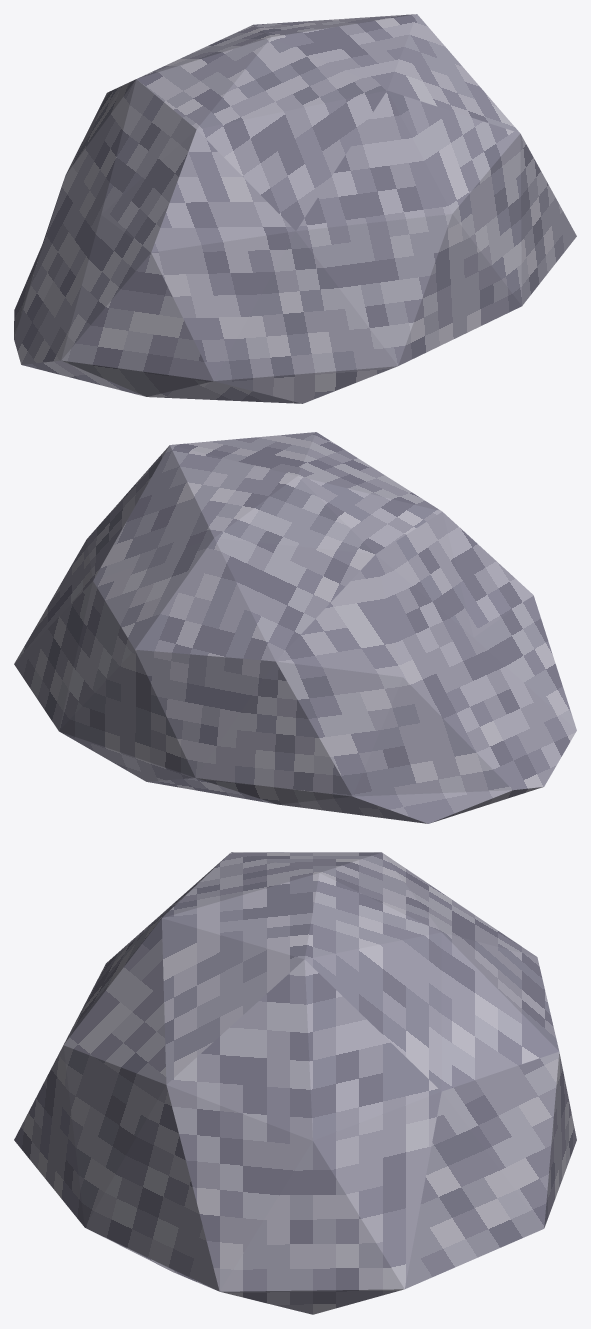
File: rock1.glb
The picture shows the model from 3 angles, top to bottom: view 1: azimuth 30°, elevation 25°; view 2: azimuth 150°, elevation 25°; view 3: azimuth 270°, elevation 25°; orthographic projection. The views are drawn at different scales.
Parts seen in each view (by area): view 1: rock1; view 2: rock1; view 3: rock1.
Boxes of the visible parts, x1=… form: rock1: x1=14, y1=14, x2=576, y2=403; rock1: x1=14, y1=432, x2=576, y2=823; rock1: x1=14, y1=852, x2=576, y2=1314.
Size of the model in its own units: 1.87 by 1.01 by 1.52.
Materials: 1 (1 with a texture image).
